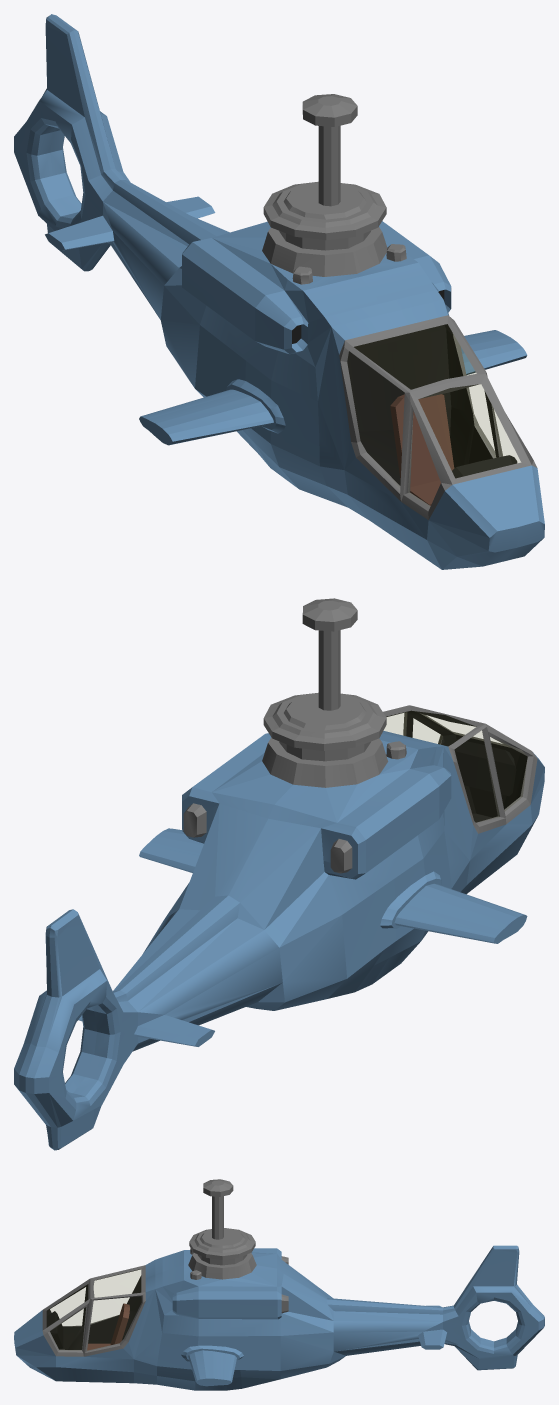
The model's file is aircraft 10.glb.
3 views of the same model, one above another, from view 1: azimuth 30°, elevation 25°; view 2: azimuth 150°, elevation 25°; view 3: azimuth 270°, elevation 25° (orthographic). The views are drawn at different scales.
Parts seen in each view (by area): view 1: tripo_node_e54d2c05-3f62-460c-9765-b89e94f4e604, seat, RotorShaft, instrument panel; view 2: tripo_node_e54d2c05-3f62-460c-9765-b89e94f4e604, RotorShaft, instrument panel; view 3: tripo_node_e54d2c05-3f62-460c-9765-b89e94f4e604, RotorShaft, seat, instrument panel.
Part boxes in pixels (x1,y1,x2,y2): tripo_node_e54d2c05-3f62-460c-9765-b89e94f4e604: (14, 14, 544, 569); seat: (390, 394, 454, 505); RotorShaft: (302, 94, 357, 206); instrument panel: (452, 455, 517, 478); tripo_node_e54d2c05-3f62-460c-9765-b89e94f4e604: (14, 692, 544, 1150); RotorShaft: (302, 598, 357, 710); instrument panel: (442, 738, 516, 796); tripo_node_e54d2c05-3f62-460c-9765-b89e94f4e604: (14, 1228, 544, 1390); RotorShaft: (203, 1179, 233, 1239); seat: (87, 1303, 129, 1350); instrument panel: (46, 1311, 63, 1348).
Size of the model in its own units: 3.69 by 3.59 by 8.88.
